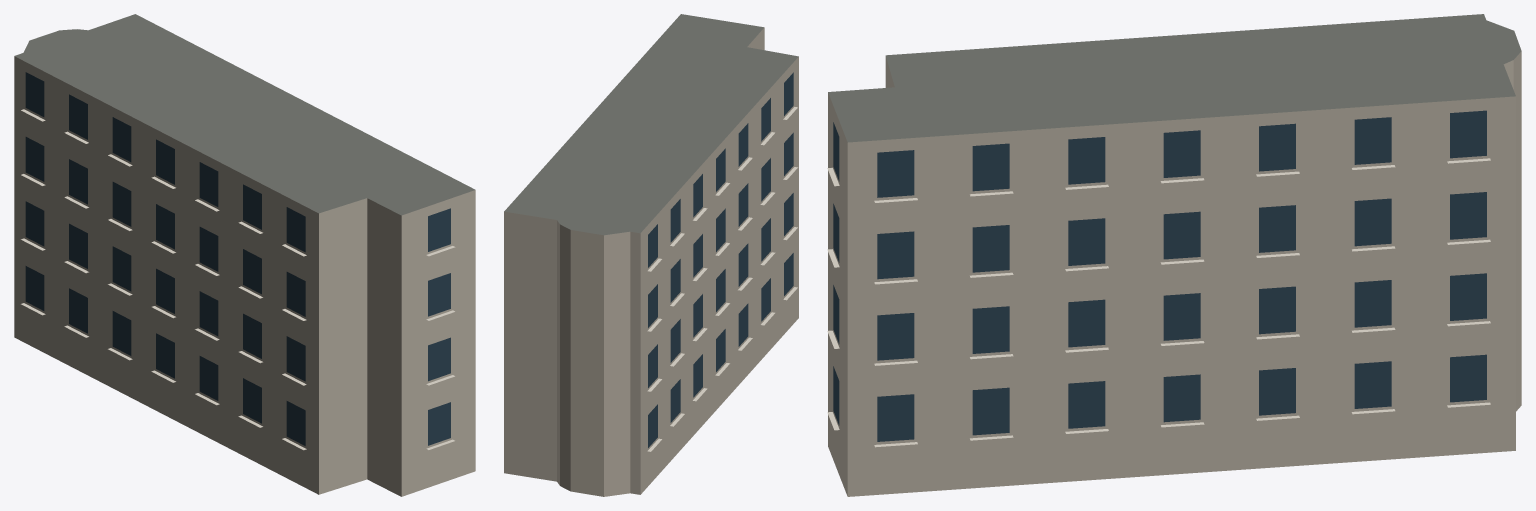
3 renders of one model, left to right at view 1: azimuth 30°, elevation 25°; view 2: azimuth 150°, elevation 25°; view 3: azimuth 270°, elevation 25°, orthographic. The views are drawn at different scales.
Parts seen in each view (by area): view 1: Footprint 0, Inferred window bays, Window sills; view 2: Footprint 0, Inferred window bays, Window sills; view 3: Footprint 0, Inferred window bays, Window sills.
Boxes of the visible parts, x1,y1,x2,y2 form: Footprint 0: (14, 14, 475, 496); Inferred window bays: (25, 72, 450, 445); Window sills: (21, 109, 455, 450); Footprint 0: (504, 14, 798, 496); Inferred window bays: (648, 72, 793, 447); Window sills: (647, 107, 797, 451); Footprint 0: (828, 14, 1521, 496); Inferred window bays: (833, 110, 1486, 441); Window sills: (827, 158, 1490, 447).
Bounding box in the file's own units: 10.26 × 12.93 × 22.95.
